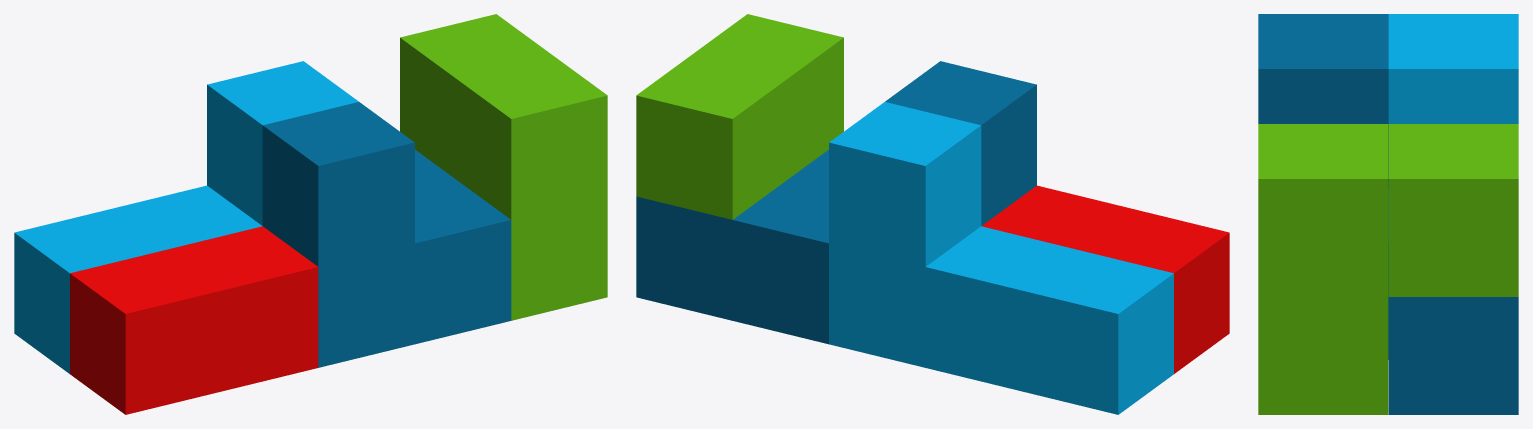
The picture shows the model from 3 angles, left to right: view 1: azimuth 30°, elevation 25°; view 2: azimuth 150°, elevation 25°; view 3: azimuth 270°, elevation 25°; orthographic projection. The views are drawn at different scales.
Visible parts, largest first — view 1: mergedBlocks(Clone); view 2: mergedBlocks(Clone); view 3: mergedBlocks(Clone).
Boxes of the visible parts, bbox=[...] form: mergedBlocks(Clone): bbox=[14, 14, 607, 414]; mergedBlocks(Clone): bbox=[636, 14, 1229, 414]; mergedBlocks(Clone): bbox=[1258, 14, 1518, 414].
Size of the model in its own units: 5 by 2 by 2.
Materials: 4 (4 with a texture image).
